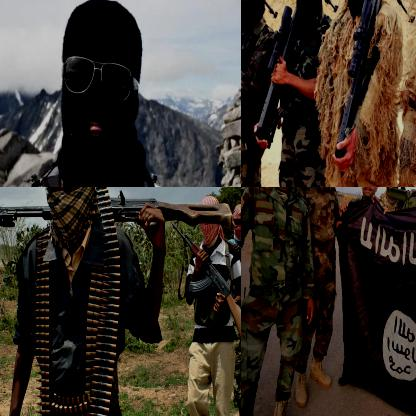rifle: (253, 0, 339, 156), (333, 0, 410, 162), (0, 191, 236, 242), (170, 219, 240, 340), (241, 0, 291, 149), (212, 235, 240, 302), (391, 187, 415, 214)
